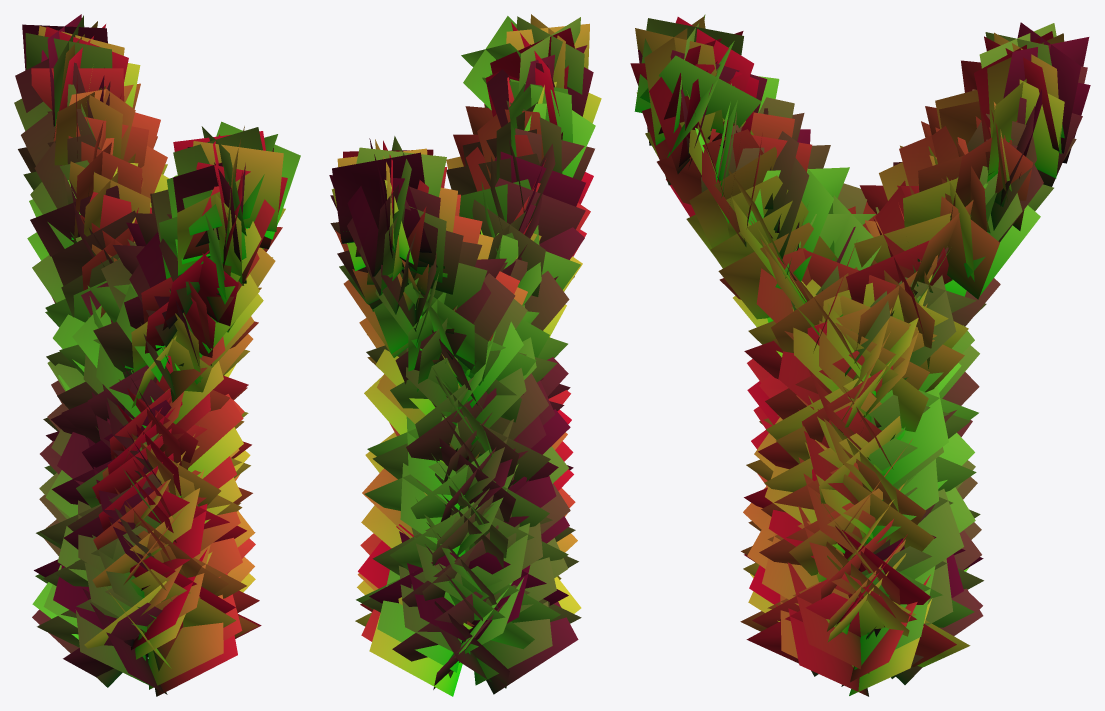
The model's file is URP_P4_Tree_11_LOD_3.fbx.
The picture shows the model from 3 angles, left to right: view 1: azimuth 30°, elevation 25°; view 2: azimuth 150°, elevation 25°; view 3: azimuth 270°, elevation 25°; orthographic projection. The views are drawn at different scales.
Parts seen in each view (by area): view 1: Tree_11_LOD_3; view 2: Tree_11_LOD_3; view 3: Tree_11_LOD_3.
Part boxes in pixels (x1=…): Tree_11_LOD_3: x1=14, y1=14, x2=300, y2=696; Tree_11_LOD_3: x1=329, y1=14, x2=601, y2=696; Tree_11_LOD_3: x1=630, y1=14, x2=1090, y2=696.
Bounding box in the file's own units: 210 × 622 × 397.
